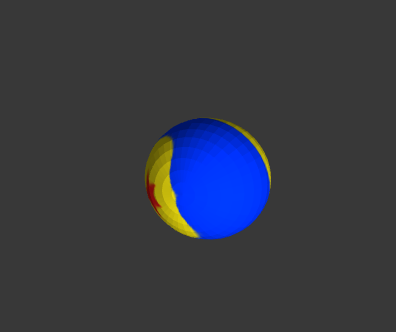toy story ball: (144, 117, 273, 240)
